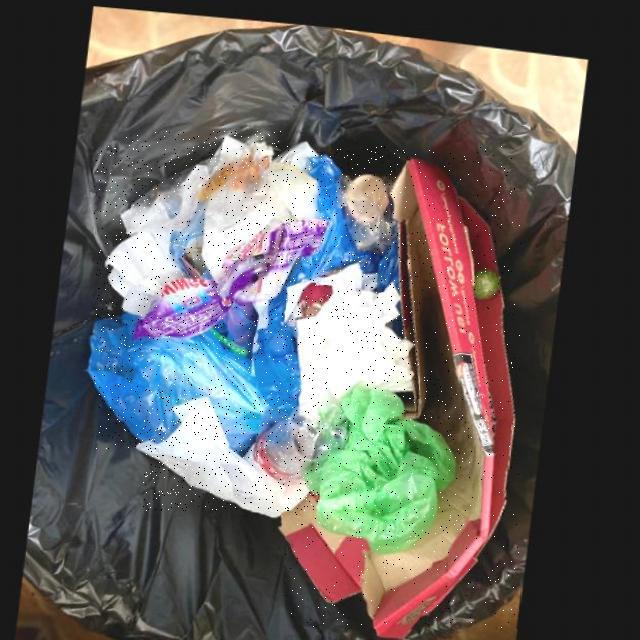biowaste: (302, 276, 337, 303), (478, 259, 505, 289)
paper: (286, 147, 521, 629), (143, 391, 318, 511), (302, 255, 420, 399)
plastic: (94, 147, 406, 450), (310, 378, 464, 545), (261, 395, 355, 472)
wrapper: (140, 211, 332, 335), (125, 131, 281, 230)
